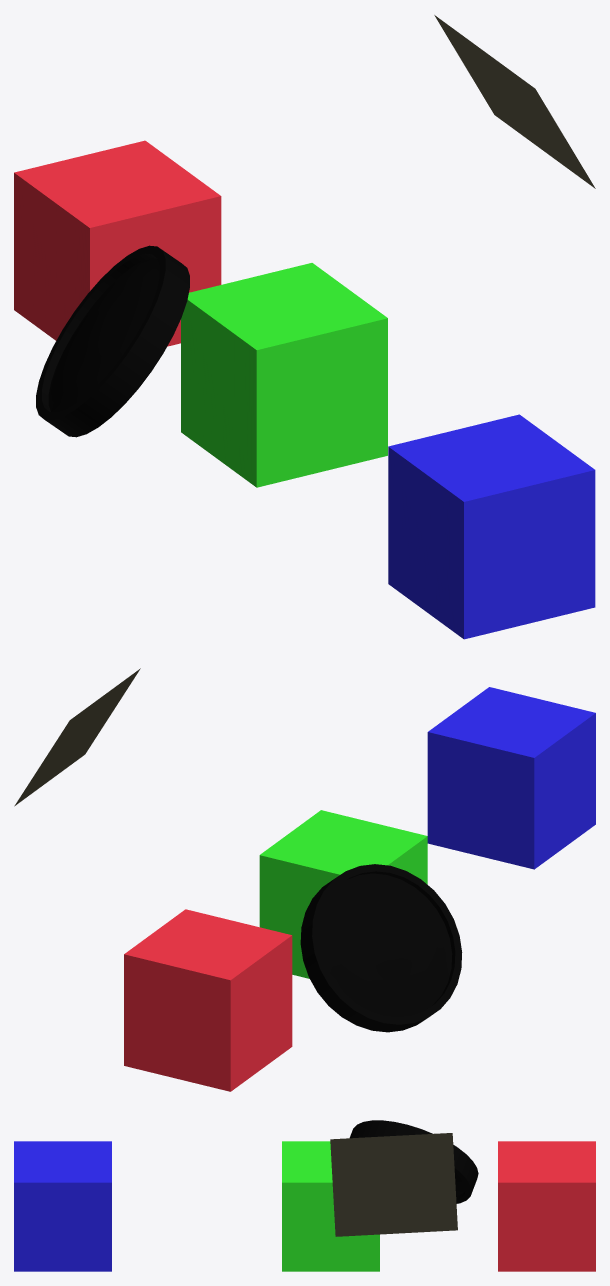
Rendered from reference.dae.
3 views of the same model, one above another, from view 1: azimuth 30°, elevation 25°; view 2: azimuth 150°, elevation 25°; view 3: azimuth 270°, elevation 25° (orthographic). The views are drawn at different scales.
Visible parts, largest first — view 1: 立方体_1, 立方体, 立方体_2, チューブ, 円柱_1, 平面_1; view 2: 立方体_2, 立方体_1, 円柱_1, 立方体, チューブ, 平面_1; view 3: 立方体_2, 立方体_1, 平面_1, 立方体, チューブ.
Part boxes in pixels (<box>): 立方体_1: <box>388,414,595,639</box>; 立方体: <box>181,263,387,487</box>; 立方体_2: <box>14,140,221,346</box>; チューブ: <box>36,245,189,437</box>; 円柱_1: <box>48,258,159,412</box>; 平面_1: <box>434,15,595,188</box>; 立方体_2: <box>124,909,292,1091</box>; 立方体_1: <box>427,687,595,869</box>; 円柱_1: <box>319,873,452,1017</box>; 立方体: <box>259,810,427,978</box>; チューブ: <box>300,864,462,1032</box>; 平面_1: <box>14,668,140,806</box>; 立方体_2: <box>498,1141,595,1271</box>; 立方体_1: <box>14,1141,111,1271</box>; 平面_1: <box>330,1133,457,1236</box>; 立方体: <box>282,1141,379,1271</box>; チューブ: <box>349,1120,478,1203</box>.
Size of what is drawn, in the model's own units: 1.51 by 0.8766 by 2.37.
